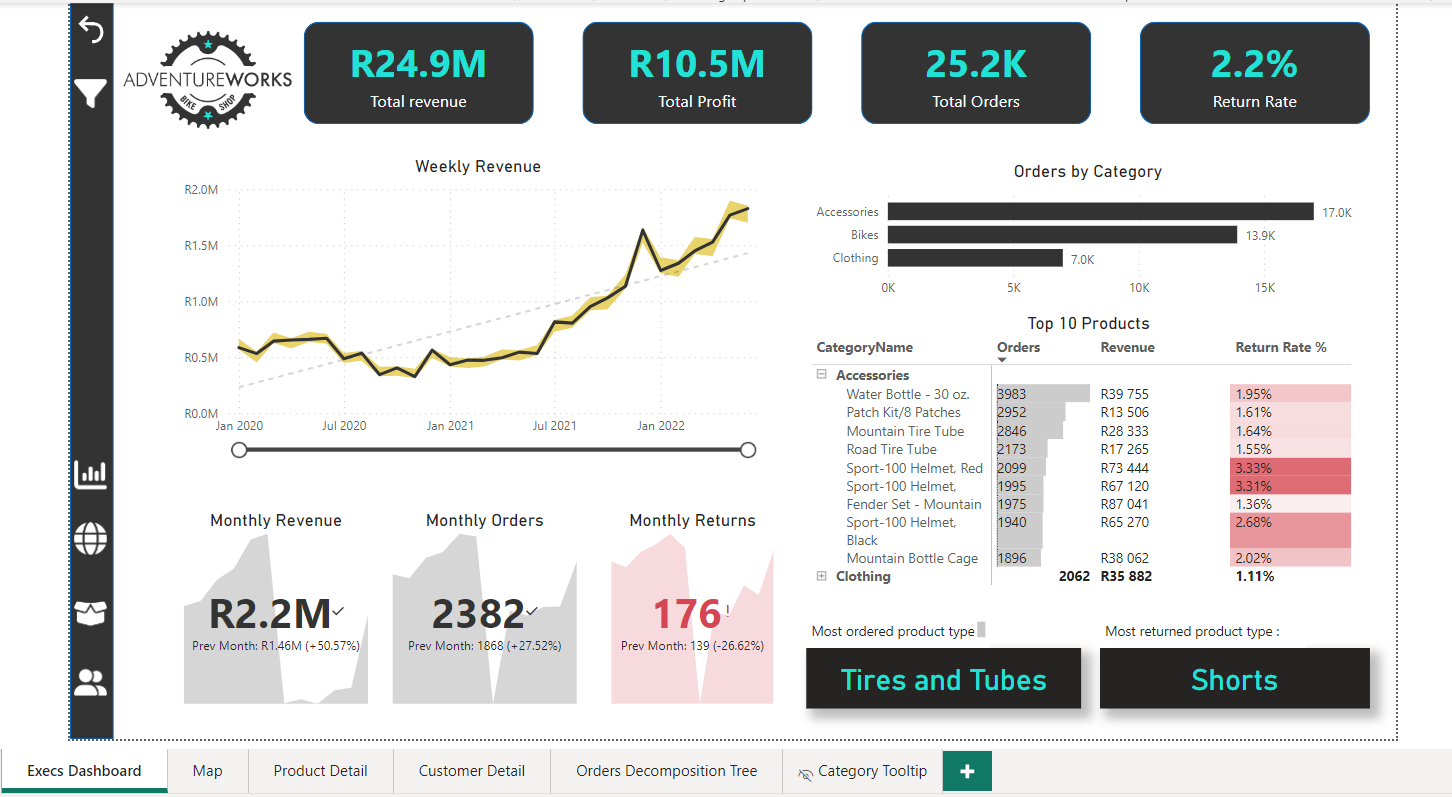

What the dashboard file says about the page in this screenshot:
{"tool":"powerbi","page":{"name":"Execs Dashboard","canvas":[1297,720],"ordinal":0},"visuals":[{"type":"image","title":"AWLogo","box":[29.6,0,211.3,149.6],"z":0},{"type":"card","fields":{"Values":["Measure Table (DAX).Total revenue"]},"box":[250.6,18.3,180.9,100.2],"z":0,"group":"g2"},{"type":"shape","box":[773.8,18.3,224.9,100.2],"z":0,"group":"g1"},{"type":"actionButton","title":"Dashboard","box":[0,441.5,43,40.3],"z":0,"group":"g3"},{"type":"shape","title":"Left Pane Background","box":[0,0,42.8,720],"z":1000},{"type":"shape","box":[228.6,18.3,224.9,100.2],"z":1000,"group":"g1"},{"type":"card","fields":{"Values":["Measure Table (DAX).Total Profit"]},"box":[523.2,18.3,180.9,100.2],"z":1000,"group":"g2"},{"type":"actionButton","title":"Product","box":[0,576.7,43,40.3],"z":1000,"group":"g3"},{"type":"group","id":"g1","title":"KPI Backgrounds","box":[228.6,18.3,1042.7,100.2],"z":2000},{"type":"shape","box":[501.2,18.3,224.9,100.2],"z":2000,"group":"g1"},{"type":"card","fields":{"Values":["Measure Table (DAX).Total Orders"]},"box":[795.8,18.3,180.9,100.2],"z":2000,"group":"g2"},{"type":"actionButton","title":"Customer","box":[0,643.9,43,40.3],"z":2000,"group":"g3"},{"type":"group","id":"g2","title":"KPI Values","box":[250.6,18.3,998.7,100.2],"z":3000},{"type":"shape","box":[1046.4,18.3,224.9,100.2],"z":3000,"group":"g1"},{"type":"card","fields":{"Values":["Measure Table (DAX).Return Rate"]},"box":[1068.4,18.3,180.9,100.2],"z":3000,"group":"g2"},{"type":"actionButton","title":"Map","box":[0,503.3,43,40.3],"z":3000,"group":"g3"},{"type":"lineChart","title":"Weekly Revenue","fields":{"Y":["Measure Table (DAX).Total revenue"],"Category":["Calendar Lookup.Date.Variation.Date Hierarchy.Year","Calendar Lookup.Date.Variation.Date Hierarchy.Quarter","Calendar Lookup.Date.Variation.Date Hierarchy.Month"]},"box":[106.6,149.6,585.7,298.2],"z":4000},{"type":"kpi","title":"Monthly Revenue","fields":{"Indicator":["Measure Table (DAX).Total revenue"],"TrendLine":["Calendar Lookup.Start of Month.Variation.Date Hierarchy.Month"],"Goal":["Measure Table (DAX).Previous Month Revenue"]},"box":[106.5,494.7,190.3,195.3],"z":5000},{"type":"kpi","title":"Monthly Orders","fields":{"TrendLine":["Calendar Lookup.Start of Month.Variation.Date Hierarchy.Month"],"Indicator":["Measure Table (DAX).Total Orders"],"Goal":["Measure Table (DAX).Previous Month Order"]},"box":[310.7,494.7,190.3,195.3],"z":6000},{"type":"kpi","title":"Monthly Returns","fields":{"TrendLine":["Calendar Lookup.Start of Month.Variation.Date Hierarchy.Month"],"Indicator":["Measure Table (DAX).Total Returns"],"Goal":["Measure Table (DAX).Previous Month Returns"]},"box":[523.8,494.7,168.7,195.3],"z":7000},{"type":"clusteredBarChart","title":"Orders by Category","fields":{"Category":["Product Categories Lookup.CategoryName"],"Y":["Measure Table (DAX).Total Orders"]},"box":[720,154,551.3,143],"z":8000},{"type":"pivotTable","title":"Top 10 Products","fields":{"Rows":["Product Categories Lookup.CategoryName","Product Lookup.ProductName"],"Values":["Measure Table (DAX).Total Orders","Measure Table (DAX).Total revenue","Measure Table (DAX).Return Rate"]},"box":[719.5,303.1,552.1,289.3],"z":9000},{"type":"card","fields":{"Values":["Min(Product Subcategories Lookup.SubcategoryName)"]},"box":[719.5,630.5,269.1,59.3],"z":10000},{"type":"card","fields":{"Values":["Min(Product Subcategories Lookup.SubcategoryName)"]},"box":[1006.7,630.5,263.9,59.3],"z":11000},{"type":"textbox","box":[719.5,599.8,180.1,30.7],"z":12000},{"type":"textbox","box":[1006.7,599.8,201.3,30.7],"z":13000},{"type":"actionButton","box":[2.7,7.2,36.7,36.7],"z":14000},{"type":"group","id":"g3","title":"Page Navigation","box":[0,441.5,43,242.7],"z":15000},{"type":"actionButton","box":[0,68.1,43,40.3],"z":16000}]}

Visuals, with their boxes on the page's 1297x720 design canvas (x1, y1, x2, y2). These are canvas units, not pixel positions in the 1452x797 screenshot, which may show the page scaled, cropped or inside an application window:
"AWLogo" image: (30, 0, 241, 150)
card - Measure Table (DAX).Total revenue: (251, 18, 432, 118)
shape: (774, 18, 999, 118)
"Dashboard" actionButton: (0, 442, 43, 482)
"Left Pane Background" shape: (0, 0, 43, 720)
shape: (229, 18, 454, 118)
card - Measure Table (DAX).Total Profit: (523, 18, 704, 118)
"Product" actionButton: (0, 577, 43, 617)
"KPI Backgrounds" group: (229, 18, 1271, 118)
shape: (501, 18, 726, 118)
card - Measure Table (DAX).Total Orders: (796, 18, 977, 118)
"Customer" actionButton: (0, 644, 43, 684)
"KPI Values" group: (251, 18, 1249, 118)
shape: (1046, 18, 1271, 118)
card - Measure Table (DAX).Return Rate: (1068, 18, 1249, 118)
"Map" actionButton: (0, 503, 43, 544)
"Weekly Revenue" lineChart: (107, 150, 692, 448)
"Monthly Revenue" kpi: (106, 495, 297, 690)
"Monthly Orders" kpi: (311, 495, 501, 690)
"Monthly Returns" kpi: (524, 495, 692, 690)
"Orders by Category" clusteredBarChart: (720, 154, 1271, 297)
"Top 10 Products" pivotTable: (720, 303, 1272, 592)
card - Min(Product Subcategories Lookup.SubcategoryName): (720, 630, 989, 690)
card - Min(Product Subcategories Lookup.SubcategoryName): (1007, 630, 1271, 690)
textbox: (720, 600, 900, 630)
textbox: (1007, 600, 1208, 630)
actionButton: (3, 7, 39, 44)
"Page Navigation" group: (0, 442, 43, 684)
actionButton: (0, 68, 43, 108)
